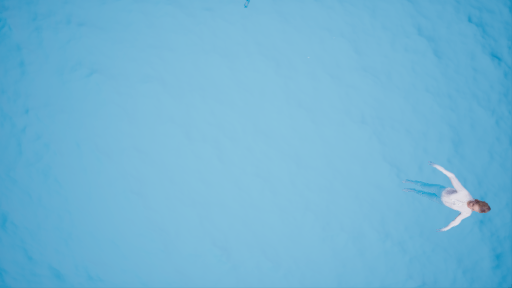person: (401, 159, 492, 235)
